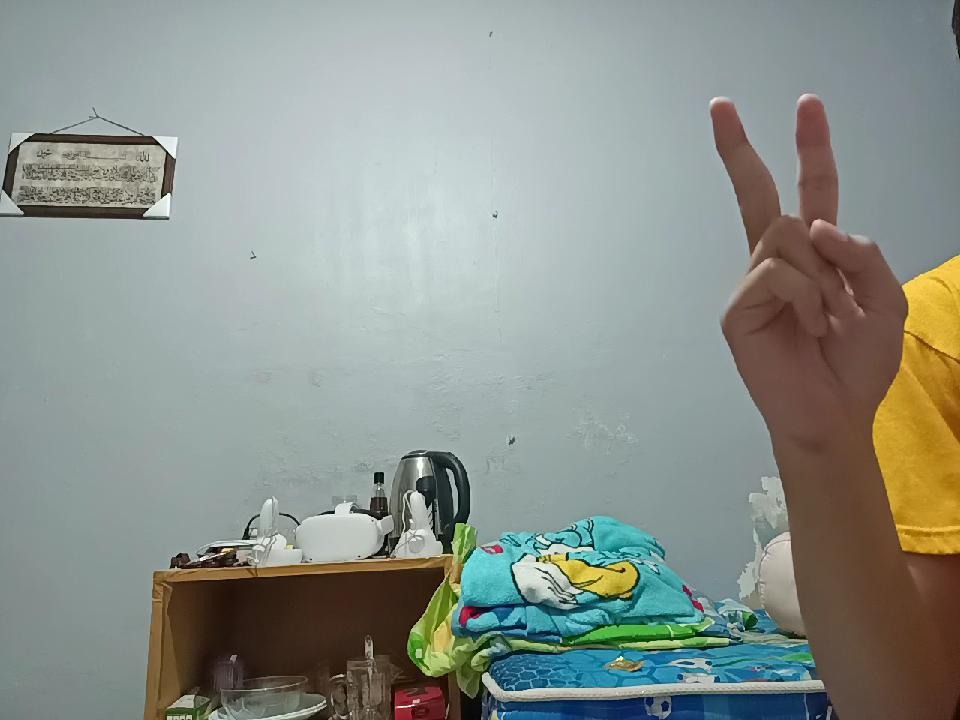scissors: (697, 67, 901, 462)
